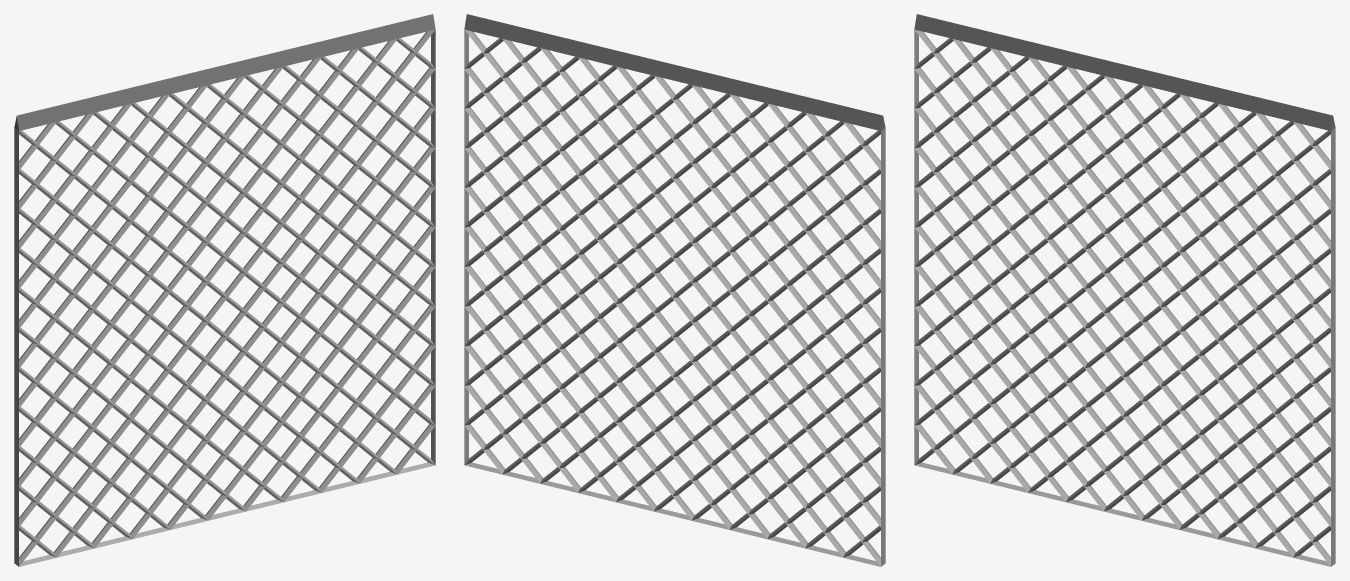
The model's file is chainFence.fbx.
3 renders of one model, left to right at view 1: azimuth 30°, elevation 25°; view 2: azimuth 150°, elevation 25°; view 3: azimuth 330°, elevation 25°, orthographic.
Parts seen in each view (by area): view 1: chainFence; view 2: chainFence; view 3: chainFence.
Boxes of the visible parts, x1,y1,x2,y2 form: chainFence: [14, 14, 435, 566]; chainFence: [464, 14, 885, 566]; chainFence: [914, 14, 1335, 566].
Size of the model in its own units: 400 by 413 by 8.
